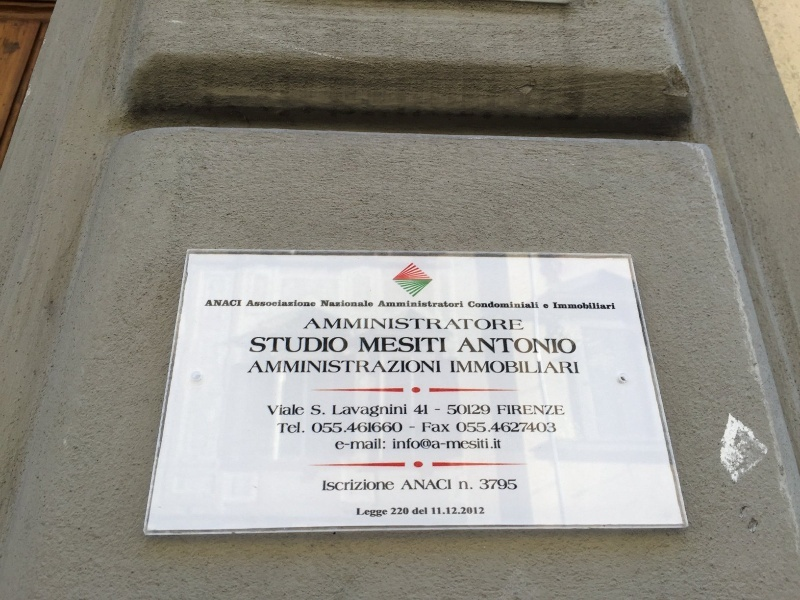text: (561, 336, 577, 354), (481, 336, 496, 354), (497, 336, 512, 354), (513, 336, 528, 354), (529, 336, 544, 354), (545, 336, 560, 354), (466, 336, 480, 354), (369, 337, 384, 353), (385, 337, 400, 353), (401, 337, 416, 353), (417, 337, 432, 353), (257, 337, 272, 352), (273, 337, 288, 352), (289, 337, 304, 352), (305, 337, 320, 352), (321, 337, 336, 352), (433, 337, 447, 353), (337, 337, 351, 352), (465, 360, 480, 374), (481, 360, 496, 374), (497, 360, 512, 374), (513, 360, 528, 374), (529, 360, 544, 374), (545, 360, 560, 374), (561, 360, 576, 374), (337, 404, 352, 418), (353, 404, 368, 418), (369, 404, 384, 418), (385, 404, 400, 418), (257, 360, 272, 373), (273, 360, 288, 373), (289, 360, 304, 373), (305, 360, 320, 373), (321, 360, 336, 373), (337, 360, 352, 373), (353, 360, 368, 373), (369, 360, 384, 373), (385, 360, 400, 373), (401, 360, 416, 373), (417, 360, 432, 373), (337, 479, 352, 492), (353, 479, 368, 492), (369, 479, 384, 492), (481, 478, 496, 491), (497, 478, 512, 491), (451, 360, 464, 374), (321, 319, 336, 331), (337, 319, 352, 331), (353, 319, 368, 331), (369, 319, 384, 331), (385, 319, 400, 331), (401, 319, 416, 331), (417, 319, 432, 331), (433, 319, 448, 331), (449, 319, 464, 331), (465, 319, 480, 331), (481, 319, 496, 331), (497, 319, 512, 331), (465, 421, 480, 433), (481, 421, 496, 433), (497, 421, 512, 433), (513, 421, 528, 433), (529, 421, 544, 433), (289, 421, 304, 433), (449, 404, 464, 416), (465, 404, 480, 416), (289, 405, 305, 416), (337, 439, 352, 450), (353, 439, 368, 450), (369, 439, 384, 450), (385, 439, 400, 450), (401, 439, 416, 450), (417, 439, 432, 450), (433, 439, 448, 450), (449, 439, 464, 450), (465, 439, 480, 450), (481, 439, 496, 450), (417, 479, 432, 490), (433, 479, 448, 490), (497, 405, 512, 416), (513, 405, 528, 416), (529, 405, 544, 416), (545, 405, 560, 416), (321, 422, 336, 433), (337, 422, 352, 433), (353, 422, 368, 433), (369, 422, 384, 433), (385, 422, 400, 433), (273, 405, 288, 416), (324, 479, 336, 492), (418, 404, 432, 415), (369, 508, 384, 518), (433, 422, 448, 432), (513, 319, 525, 331), (359, 337, 368, 353), (545, 421, 556, 433), (277, 421, 288, 433), (385, 479, 395, 492), (405, 479, 416, 490), (481, 301, 496, 309), (497, 301, 512, 309), (513, 301, 528, 309), (561, 302, 576, 310), (577, 302, 592, 310), (593, 302, 608, 310), (433, 507, 448, 515), (449, 507, 464, 515), (465, 507, 480, 515), (481, 404, 491, 416), (357, 508, 368, 518), (455, 421, 464, 433), (209, 300, 224, 307), (225, 300, 240, 307), (321, 300, 336, 307), (337, 300, 352, 307), (353, 300, 368, 307), (385, 301, 400, 308), (401, 301, 416, 308), (417, 301, 432, 308), (433, 301, 448, 308), (449, 301, 464, 308), (433, 360, 441, 373), (422, 422, 432, 432), (468, 301, 480, 309), (312, 319, 320, 331), (257, 301, 272, 307), (273, 301, 288, 307), (289, 301, 304, 307), (465, 480, 474, 490), (390, 507, 400, 516), (417, 507, 428, 515), (312, 422, 320, 433), (312, 405, 320, 416), (401, 404, 407, 418), (529, 301, 539, 309), (401, 507, 409, 516), (305, 301, 316, 307), (321, 405, 327, 416), (513, 478, 518, 491), (252, 337, 256, 352), (553, 302, 560, 310), (267, 405, 272, 416), (459, 480, 464, 490), (609, 302, 615, 310), (497, 439, 501, 450), (561, 405, 565, 416), (577, 360, 580, 374), (434, 408, 448, 411), (333, 404, 336, 418), (250, 301, 256, 307), (369, 300, 374, 307), (379, 301, 384, 308), (412, 507, 416, 515), (481, 507, 485, 515), (385, 508, 388, 518), (449, 479, 451, 490), (401, 422, 403, 433), (409, 426, 416, 429), (545, 304, 549, 309), (241, 300, 243, 307), (479, 478, 480, 491), (305, 421, 306, 433), (449, 422, 450, 432), (431, 507, 432, 515), (543, 304, 544, 309)
